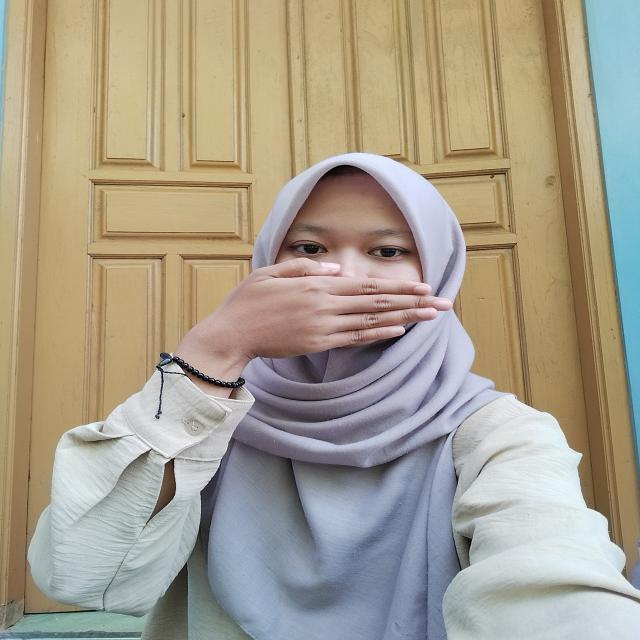buruk: (155, 250, 450, 374)
